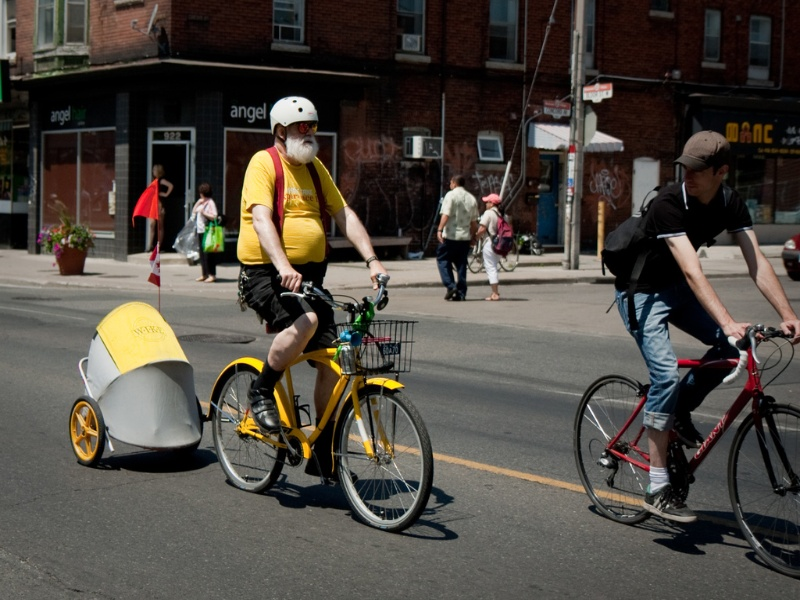Baret: (270, 94, 320, 128)
